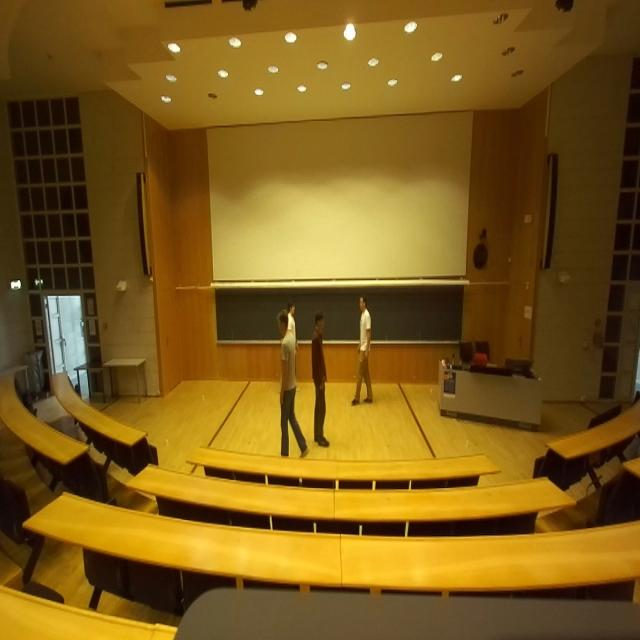person: (278, 309, 310, 457), (350, 294, 372, 404), (312, 311, 329, 446), (286, 300, 300, 391)
